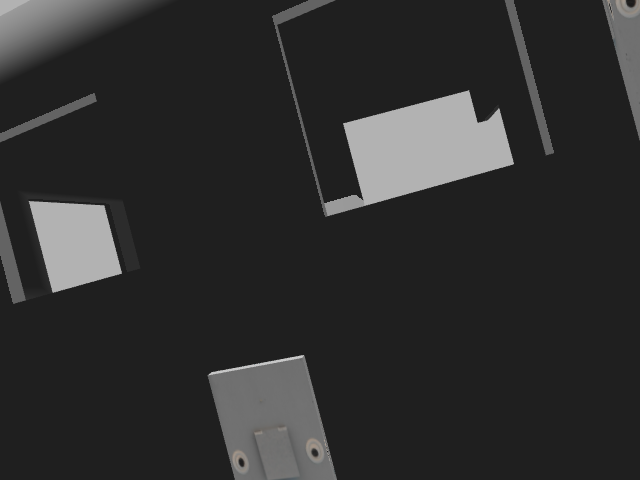facade: (225, 424, 325, 477)
